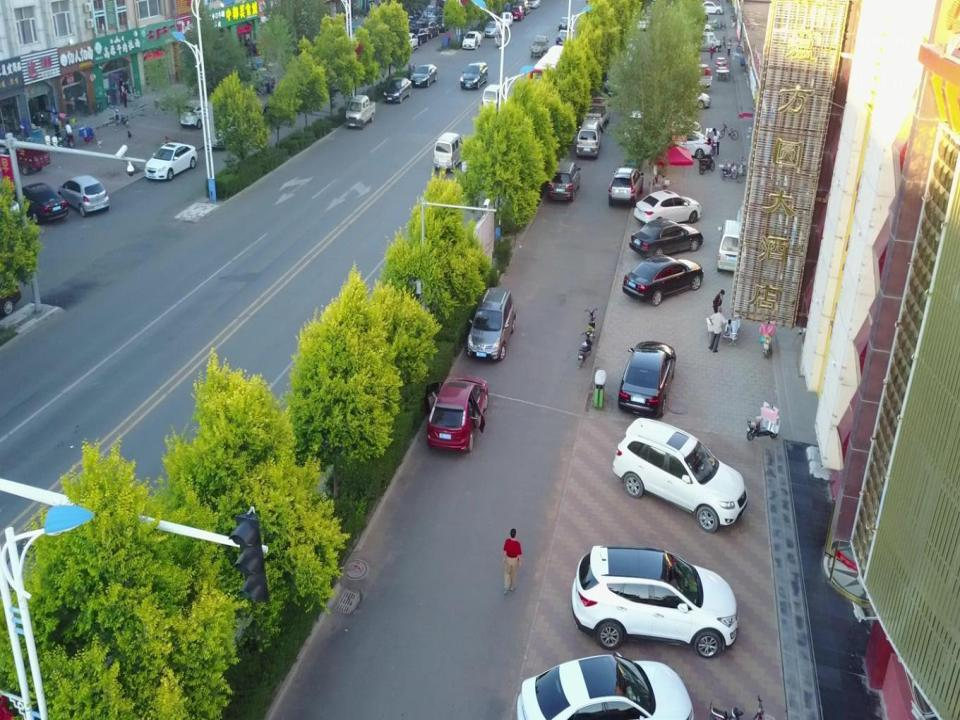bus: (531, 42, 567, 84)
car: (570, 542, 753, 653), (610, 413, 747, 532), (418, 375, 489, 456), (618, 340, 676, 420), (621, 257, 703, 307), (628, 219, 700, 263), (634, 189, 698, 232), (14, 181, 69, 225), (57, 174, 110, 218), (144, 141, 196, 182), (542, 156, 582, 204), (608, 166, 641, 210), (605, 44, 632, 90), (178, 98, 217, 129), (240, 69, 280, 92), (459, 62, 488, 90), (382, 76, 411, 103), (411, 64, 437, 88), (462, 30, 485, 50), (484, 19, 501, 37), (497, 12, 513, 26), (508, 6, 524, 20), (512, 0, 528, 14), (556, 30, 570, 44), (558, 15, 571, 27), (529, 0, 539, 8)
truck: (248, 57, 285, 92), (344, 94, 376, 130), (529, 34, 549, 58)
van: (467, 280, 517, 362), (717, 218, 749, 274), (432, 131, 467, 170), (584, 91, 611, 135), (574, 117, 601, 160), (480, 82, 507, 116)
